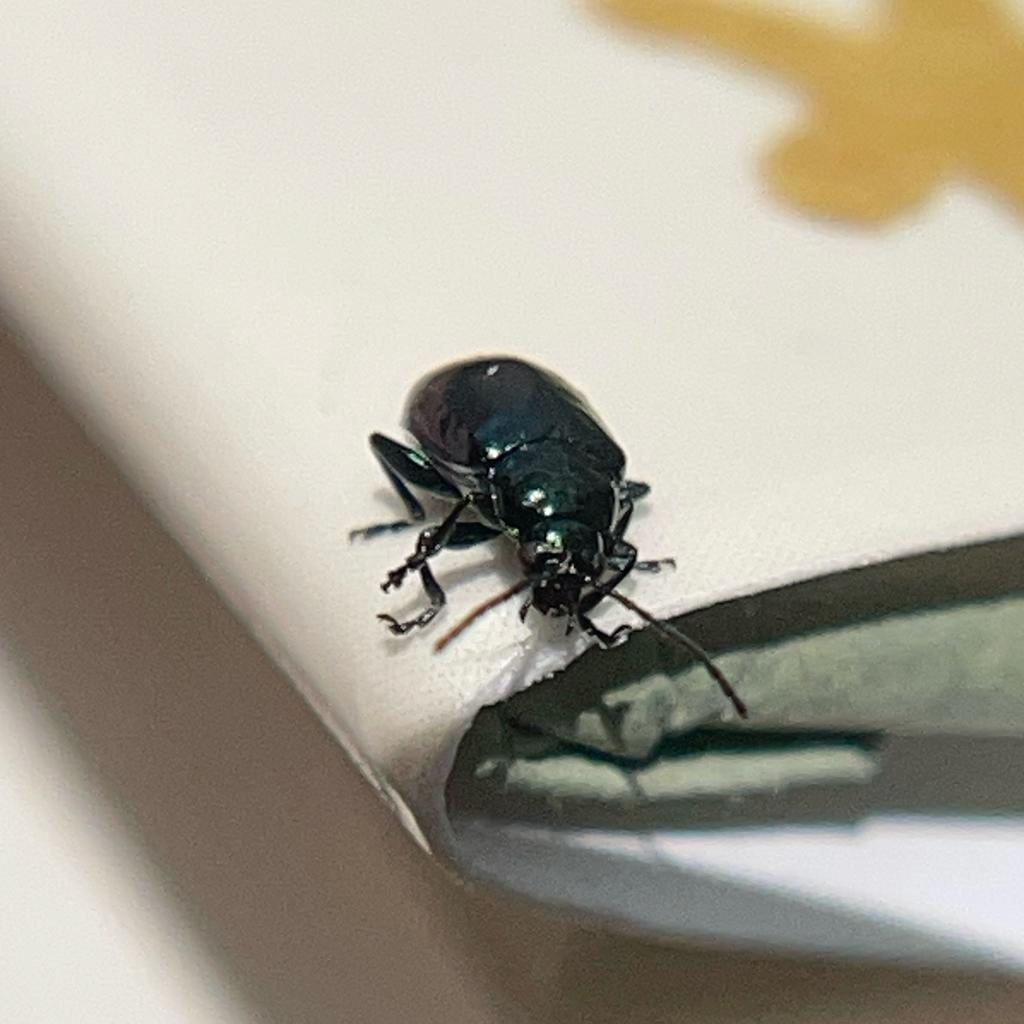flea_beetle: (291, 279, 811, 799)
